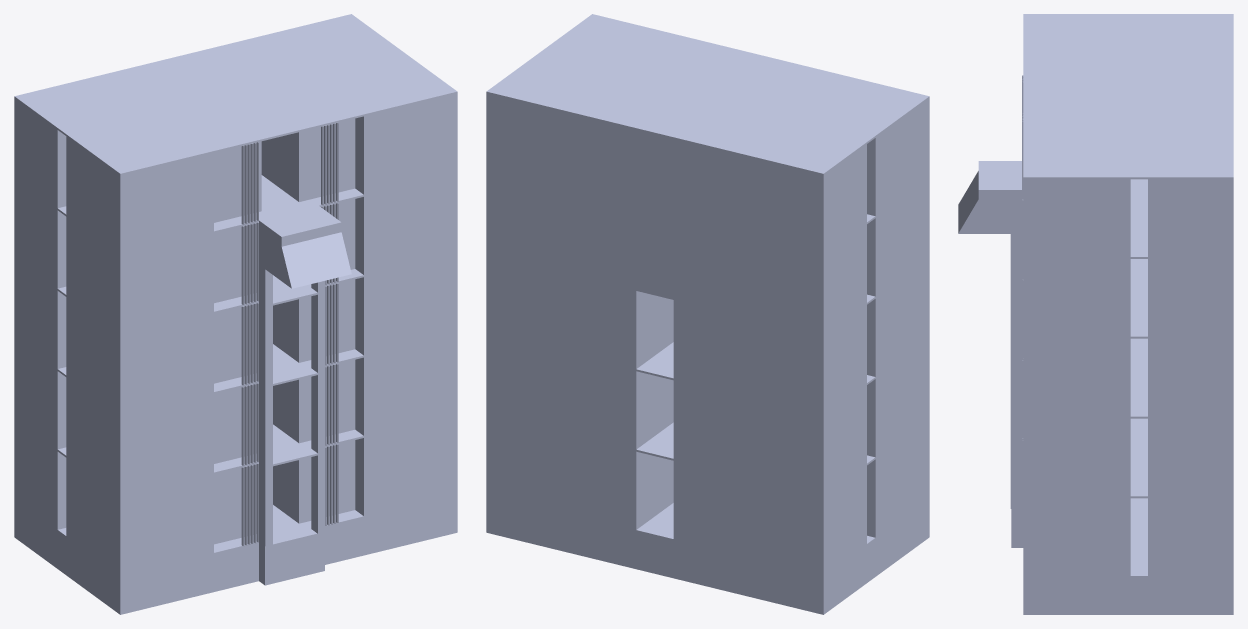
Rendered from FullBody.glb.
3 views of the same model, side by side, from view 1: azimuth 30°, elevation 25°; view 2: azimuth 150°, elevation 25°; view 3: azimuth 270°, elevation 25° (orthographic).
Visible parts, largest first — view 1: color; view 2: color; view 3: color.
Part boxes in pixels (x1,y1,x2,y2): color: [14, 14, 457, 614]; color: [486, 14, 929, 614]; color: [958, 14, 1233, 614].
Size of the model in its own units: 0.18 by 0.225 by 0.1284.
